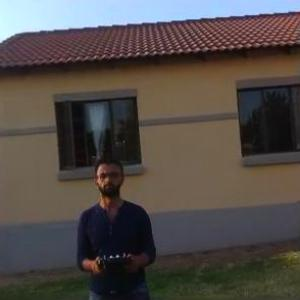follow: (72, 151, 162, 299)
